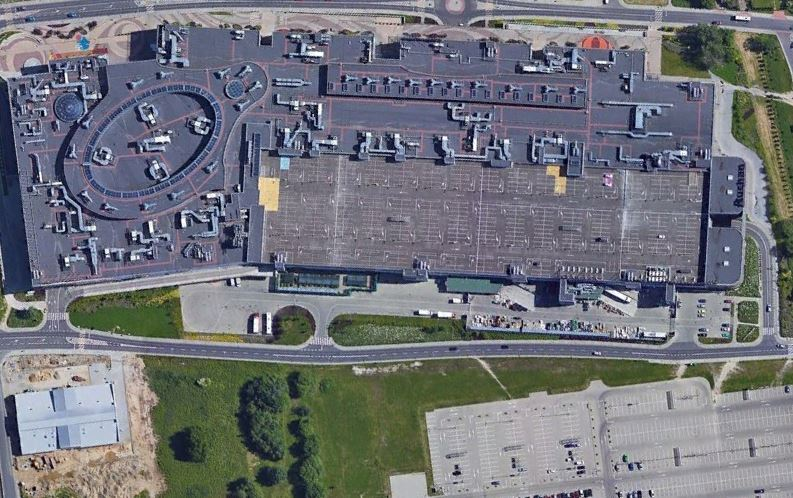block of flats: (8, 377, 127, 462)
shopping_center: (1, 16, 750, 299)
